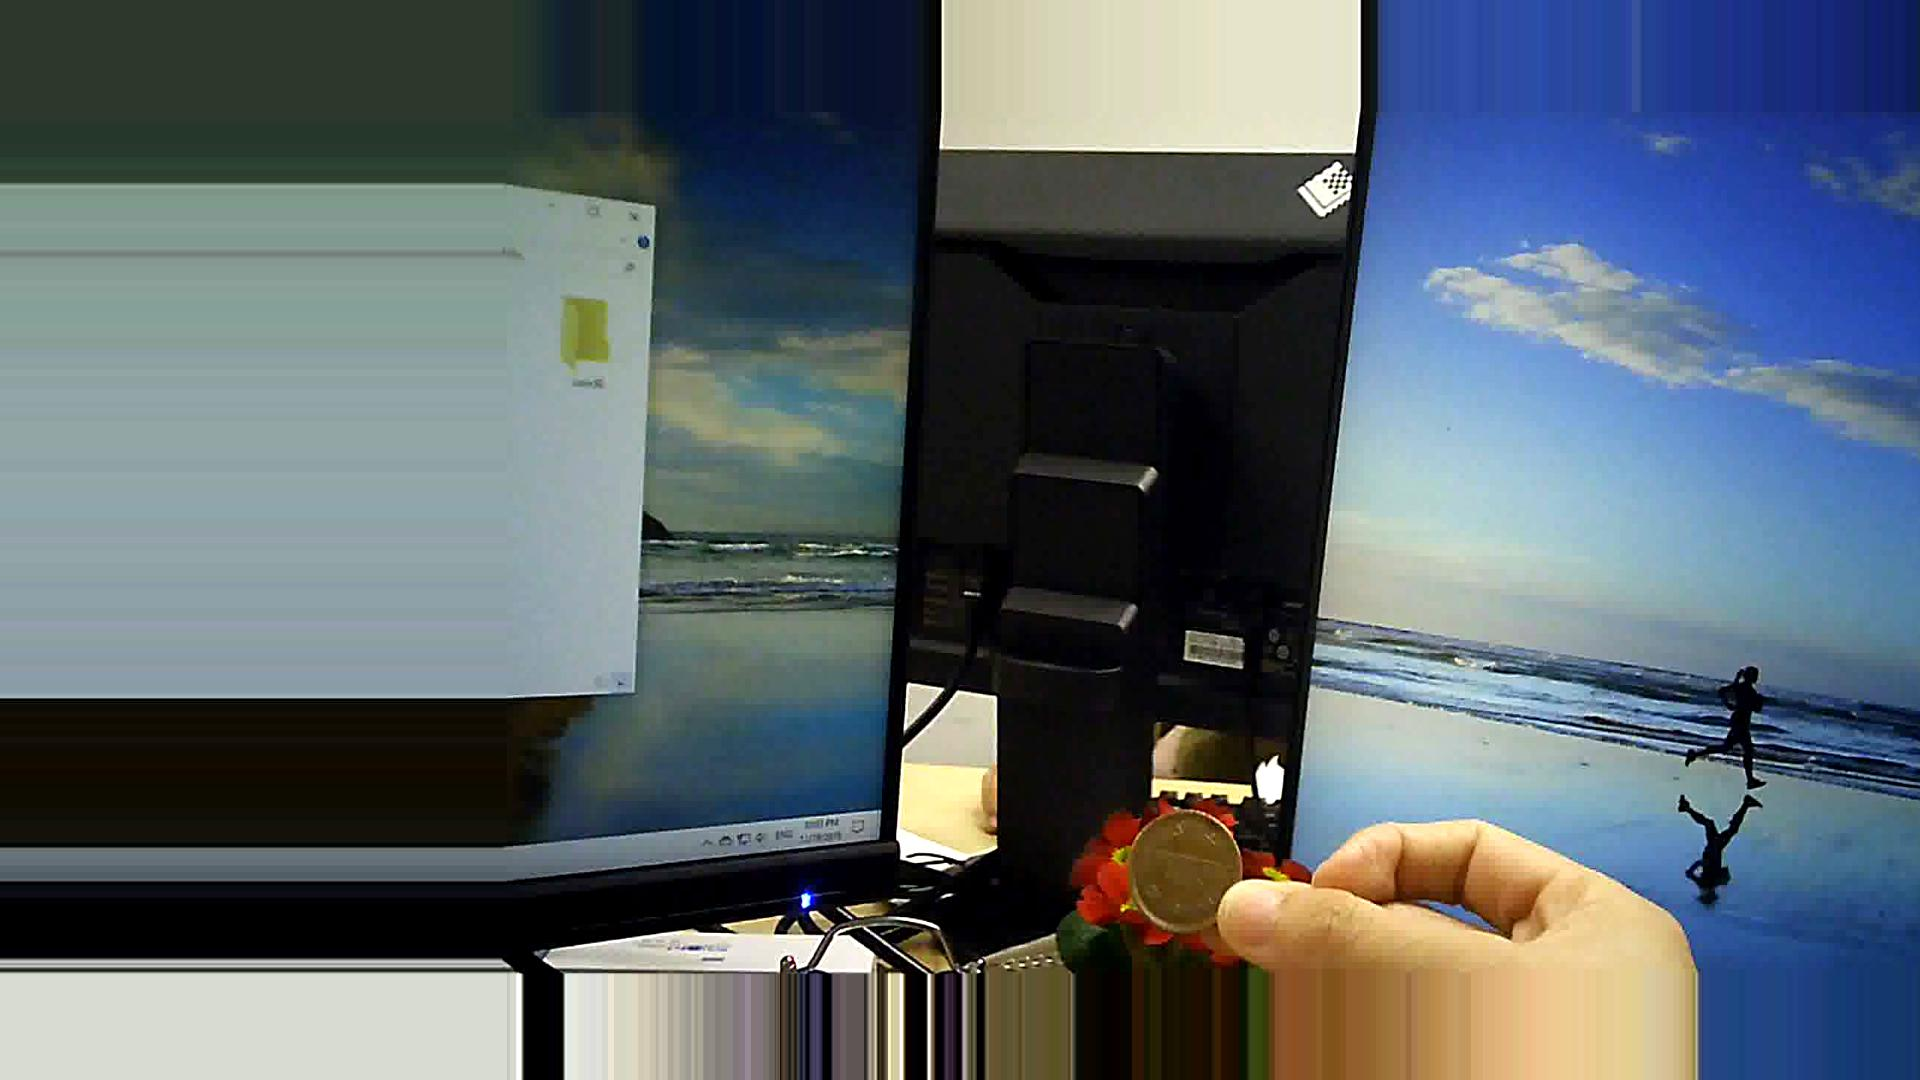10 Yen: (1124, 807, 1251, 935)
